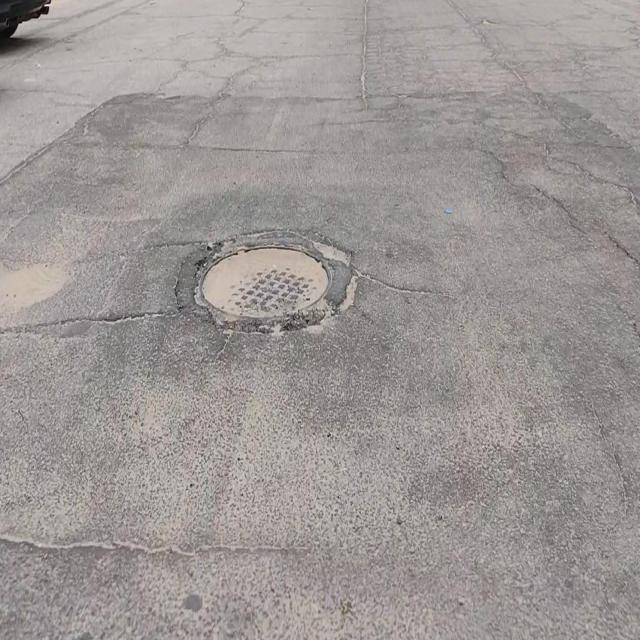Potholes: (195, 236, 335, 320)
